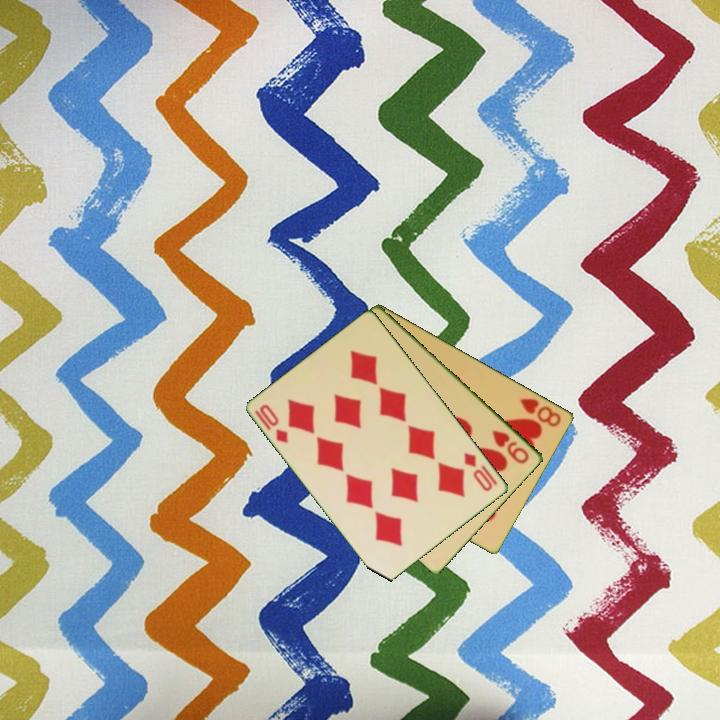10d: (251, 401, 291, 446), (461, 449, 496, 494)
8h: (517, 394, 564, 430)
9h: (489, 426, 532, 467)
